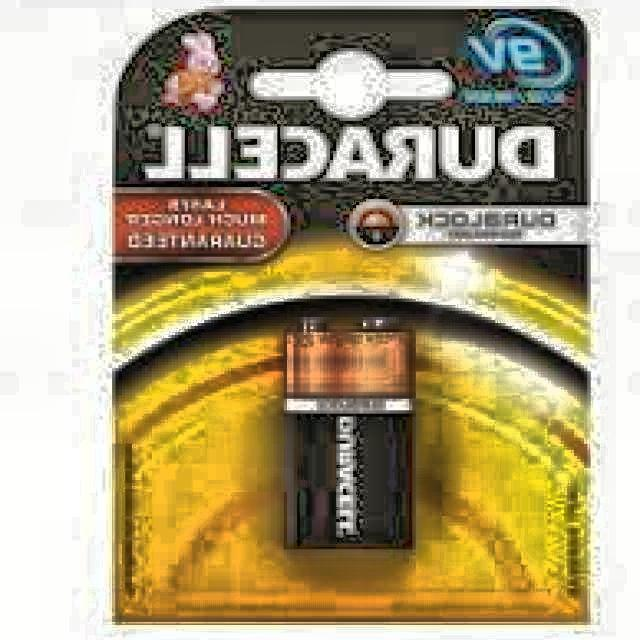battery: (109, 6, 591, 622), (283, 317, 414, 548)
